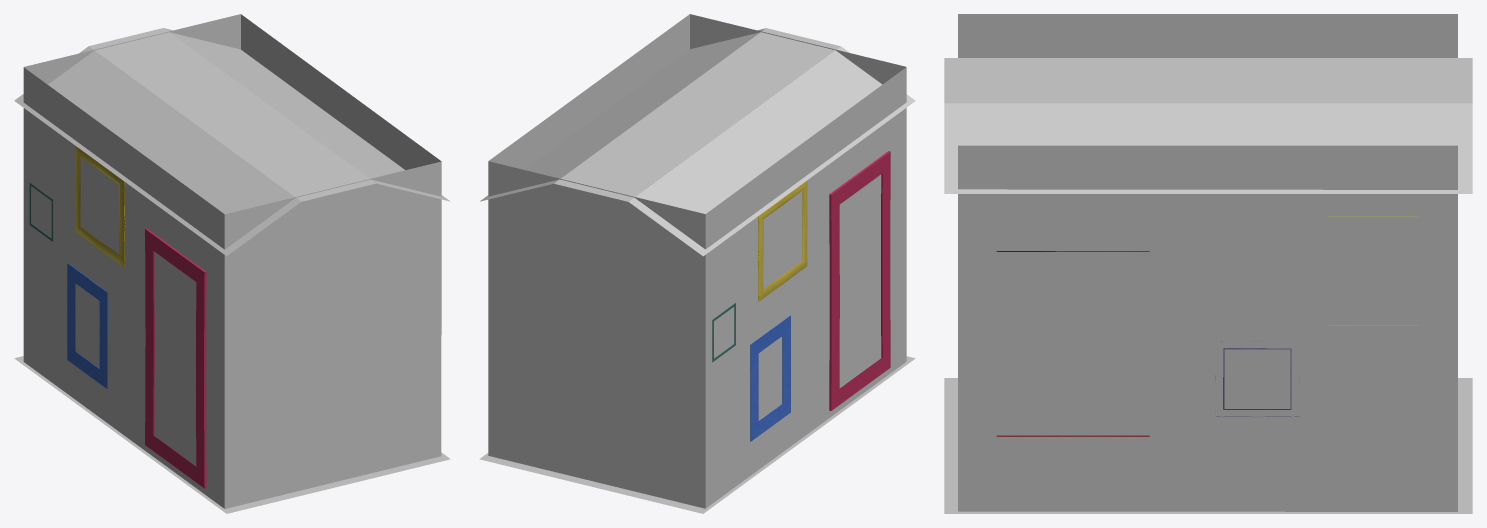
The model's file is Corridor-Sem-Furo.fbx.
3 views of the same model, side by side, from view 1: azimuth 30°, elevation 25°; view 2: azimuth 150°, elevation 25°; view 3: azimuth 270°, elevation 25° (orthographic). The views are drawn at different scales.
Parts seen in each view (by area): view 1: Walls-Corridor, Ceiling-Corridor, Main-Painting, Paintings-Corridor.009, Floor-Corridor, Paintings-Corridor; view 2: Walls-Corridor, Ceiling-Corridor, Main-Painting, Paintings-Corridor.009, Floor-Corridor, Paintings-Corridor; view 3: Walls-Corridor, Ceiling-Corridor, Floor-Corridor.
Boxes of the visible parts, x1=… form: Walls-Corridor: x1=23, y1=14, x2=441, y2=508; Ceiling-Corridor: x1=14, y1=28, x2=450, y2=256; Main-Painting: x1=145, y1=228, x2=206, y2=488; Paintings-Corridor.009: x1=67, y1=263, x2=108, y2=388; Floor-Corridor: x1=14, y1=356, x2=450, y2=513; Paintings-Corridor: x1=75, y1=146, x2=125, y2=267; Walls-Corridor: x1=488, y1=14, x2=906, y2=508; Ceiling-Corridor: x1=480, y1=28, x2=915, y2=256; Main-Painting: x1=829, y1=151, x2=890, y2=410; Paintings-Corridor.009: x1=750, y1=315, x2=790, y2=441; Floor-Corridor: x1=479, y1=356, x2=915, y2=513; Paintings-Corridor: x1=757, y1=180, x2=807, y2=301; Walls-Corridor: x1=958, y1=14, x2=1457, y2=511; Ceiling-Corridor: x1=944, y1=58, x2=1472, y2=193; Floor-Corridor: x1=944, y1=378, x2=1472, y2=513.
Bounding box in the file's own units: 461 × 579 × 757.
